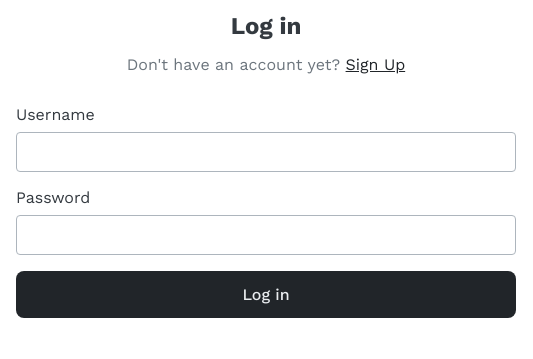
Test: Shows error message when submit button is clicked and username field is empty
Type "password" into the password field labelled "Password" at (266, 235), box [16,215,516,255]
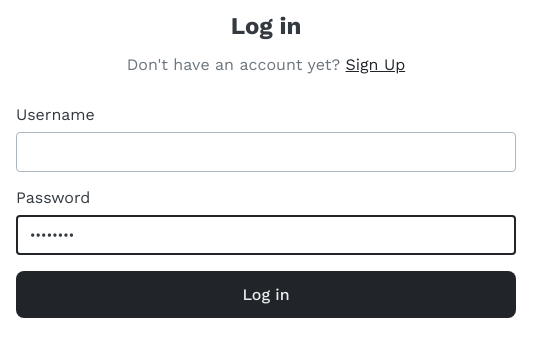
Click the button "Log in" at (266, 294), box [16,271,516,318]
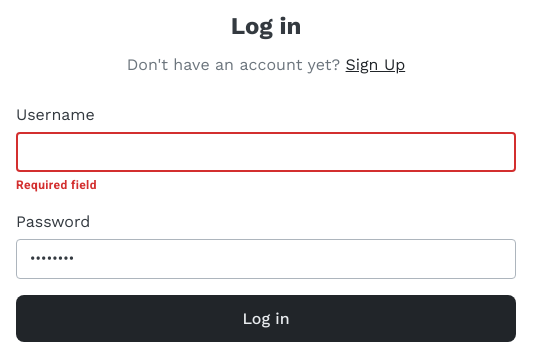
Expected: the text "Required field" is shown, [16,178,97,192]
